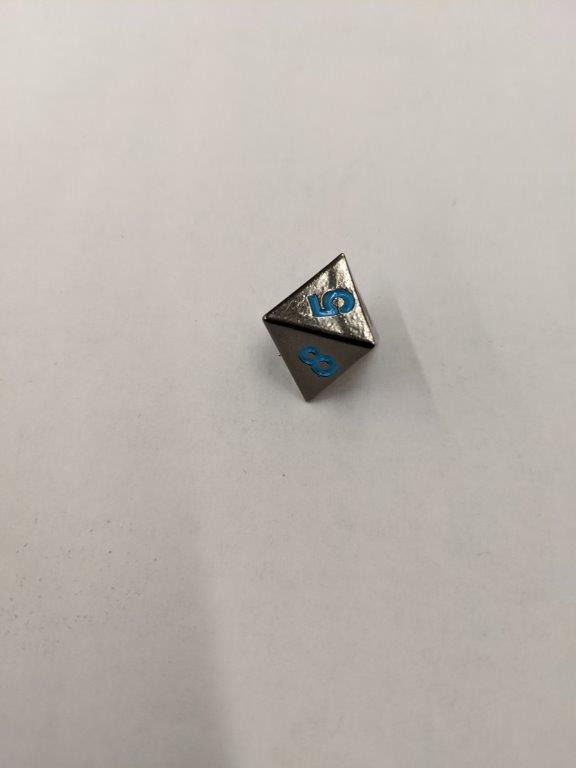d8-5: (261, 252, 384, 405)
